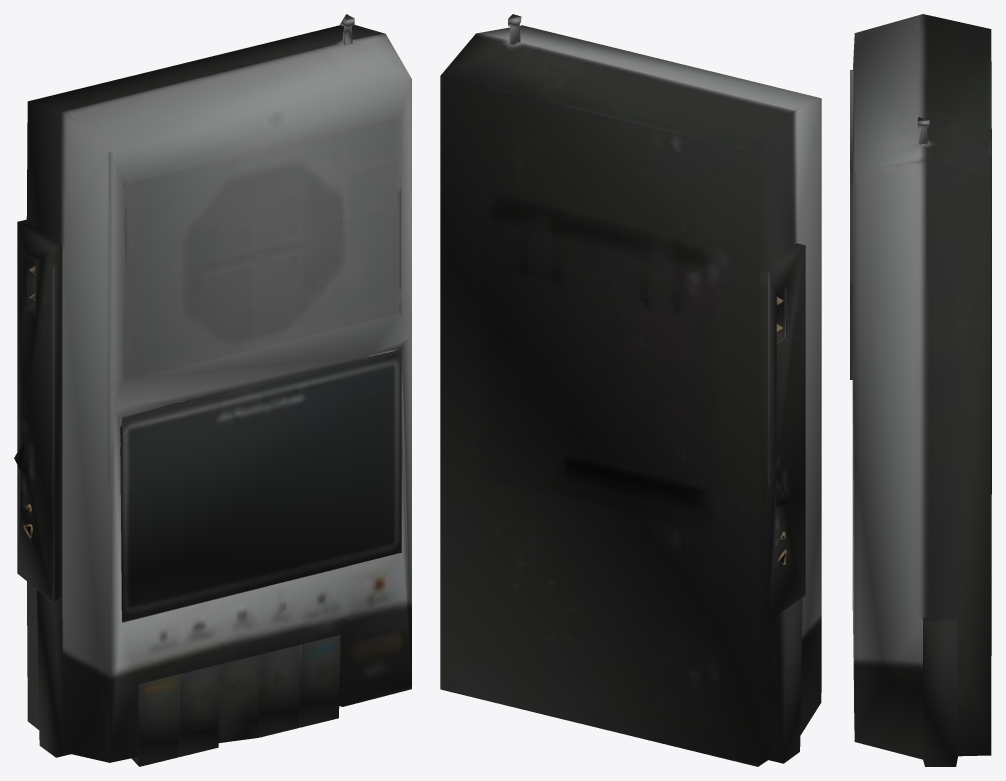
File: cassette_player.glb
3 renders of one model, left to right at view 1: azimuth 30°, elevation 25°; view 2: azimuth 150°, elevation 25°; view 3: azimuth 270°, elevation 25°, orthographic. The views are drawn at different scales.
Parts seen in each view (by area): view 1: cassette_player_body; view 2: cassette_player_body; view 3: cassette_player_body.
Part boxes in pixels (<box>): cassette_player_body: <box>14,14,411,766</box>; cassette_player_body: <box>440,14,821,766</box>; cassette_player_body: <box>850,14,991,766</box>.
Size of the model in its own units: 0.1295 by 0.2363 by 0.0484.
Materials: 3 (3 with a texture image).
